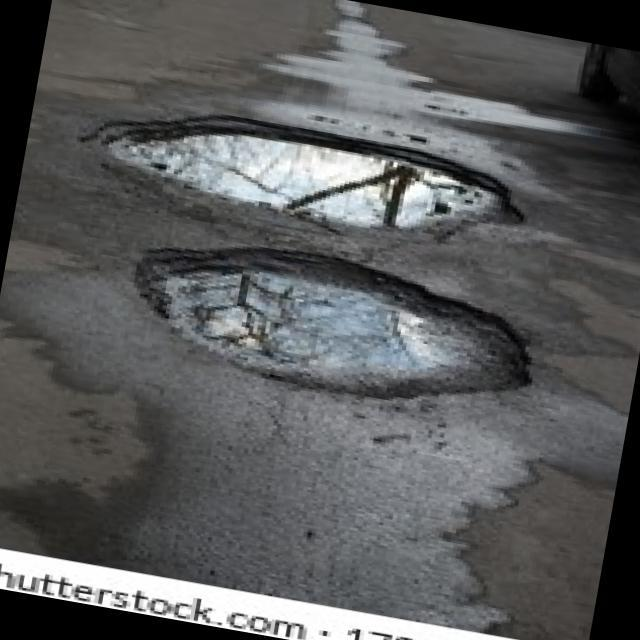Pothole: (112, 220, 555, 428), (64, 82, 537, 267)
